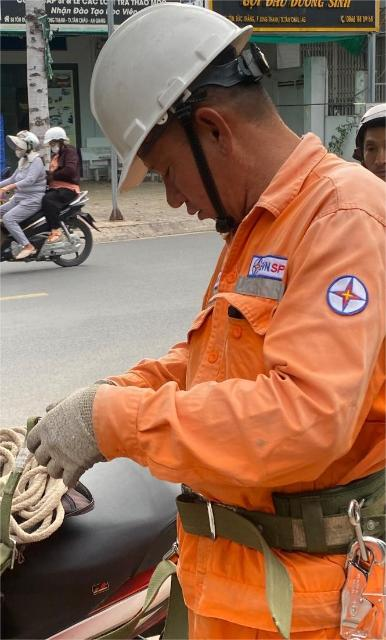gloves: (7, 367, 144, 484)
harness: (166, 452, 386, 573)
helmet: (75, 9, 295, 195)
